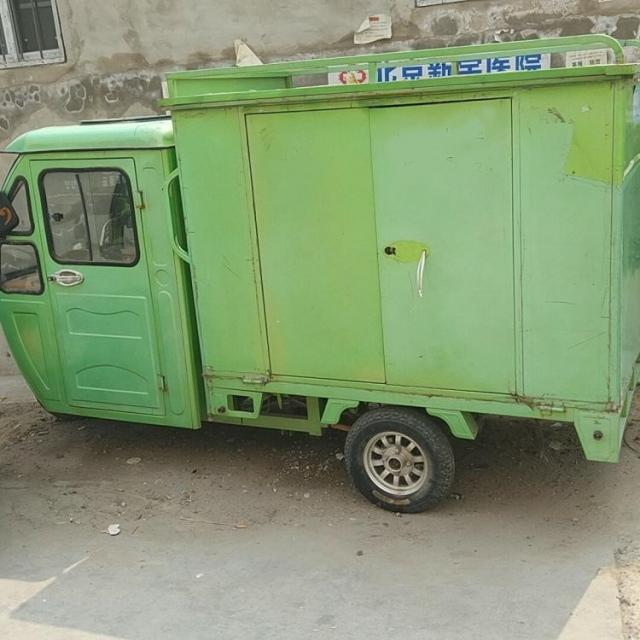tricycle: (5, 32, 638, 514)
